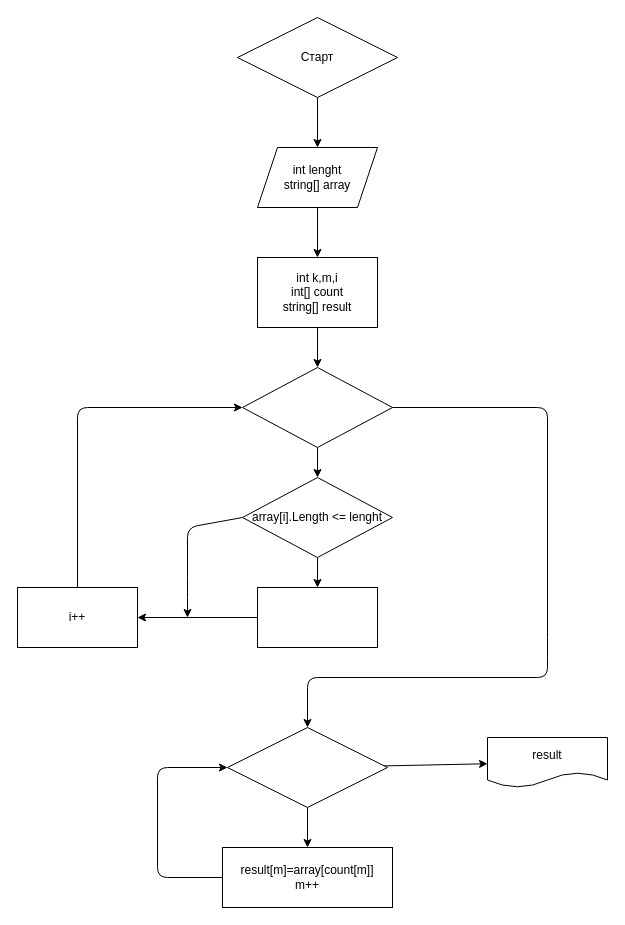
Image size: 625x925. Some labels were removed from this diagram. The shapes that lost their labels are listed below. From the top down, each one's box as (x1, y1, x2, y2) in pixels, then its label:
(242, 366, 392, 448): i < array.Length
(256, 586, 378, 648): count[k] = i k++
(226, 726, 388, 808): m < result.Length
